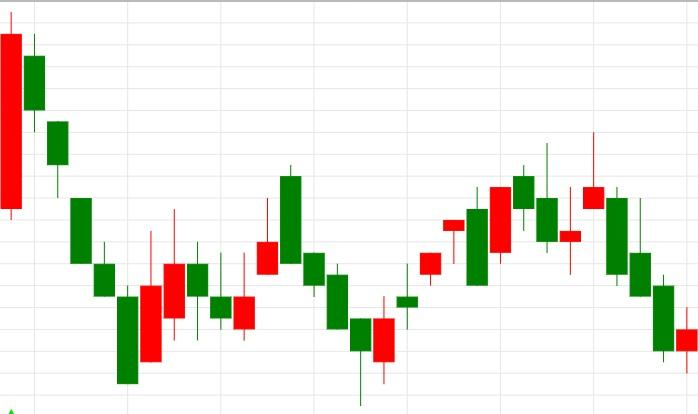bearish_engulfing_fall: (349, 187, 488, 405)
bullish_engulfing_rise: (163, 210, 256, 340)
